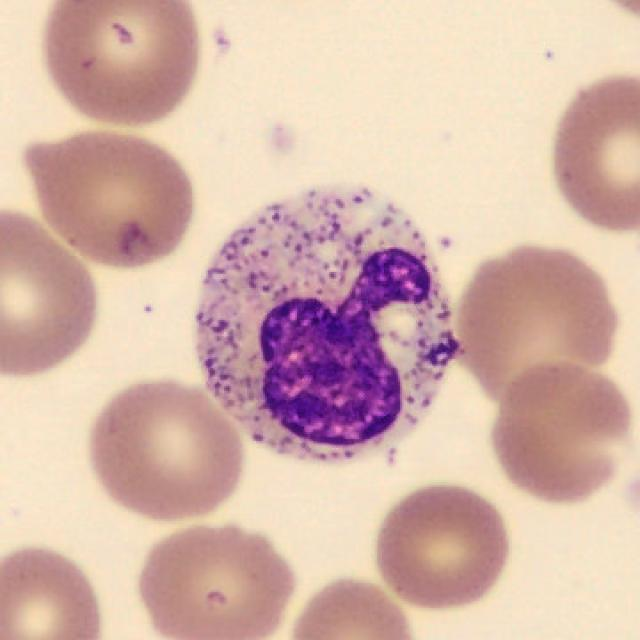Neutrofilo segmentado: (194, 185, 462, 464)
